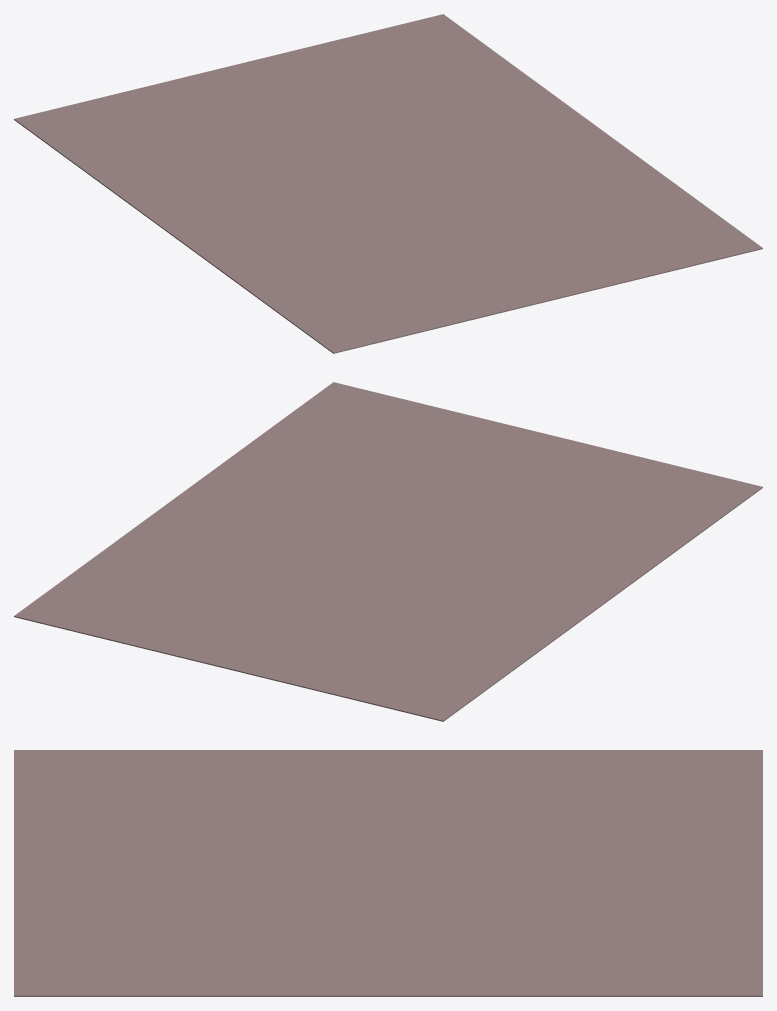
The model's file is ceiling.FBX.
3 renders of one model, top to bottom at view 1: azimuth 30°, elevation 25°; view 2: azimuth 150°, elevation 25°; view 3: azimuth 270°, elevation 25°, orthographic. The views are drawn at different scales.
Visible parts, largest first — view 1: ceiling; view 2: ceiling; view 3: ceiling.
Boxes of the visible parts, x1,y1,x2,y2 form: ceiling: (14, 14, 762, 353); ceiling: (14, 382, 762, 721); ceiling: (14, 750, 762, 996).
Size of the model in its own units: 36.72 by 0.0899 by 47.33.
